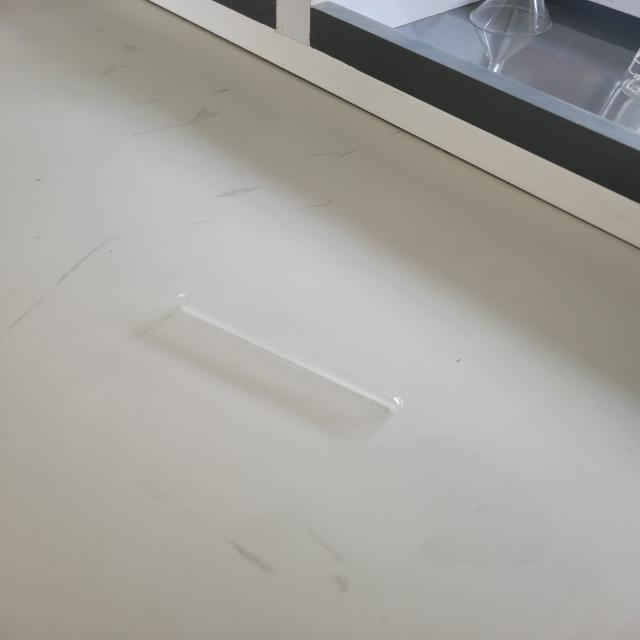Test_Tube: (144, 259, 430, 464)
